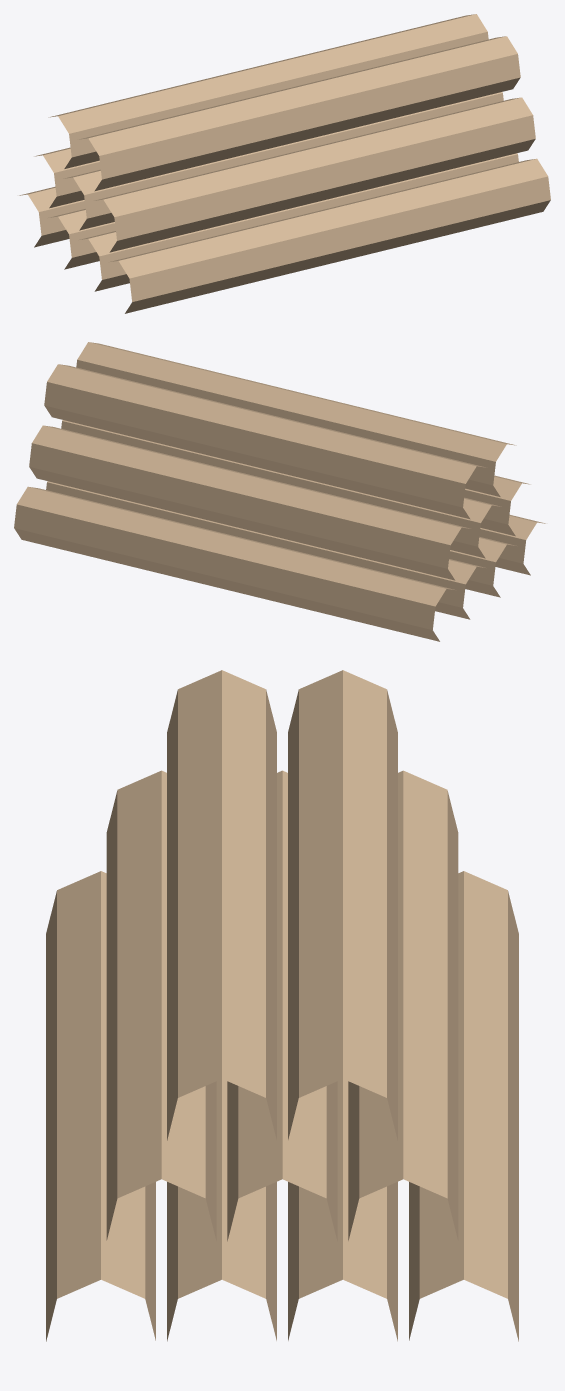
3 views of the same model, one above another, from view 1: azimuth 30°, elevation 25°; view 2: azimuth 150°, elevation 25°; view 3: azimuth 270°, elevation 25° (orthographic). The views are drawn at different scales.
Visible parts, largest first — view 1: WB_larchLogPile; view 2: WB_larchLogPile; view 3: WB_larchLogPile.
Boxes of the visible parts, left/top/right/bottom form: WB_larchLogPile: left=19, top=14, right=550, bottom=313; WB_larchLogPile: left=14, top=342, right=545, bottom=641; WB_larchLogPile: left=46, top=670, right=518, bottom=1341.
Bounding box in the file's own units: 4.8 × 1.63 × 2.35.
